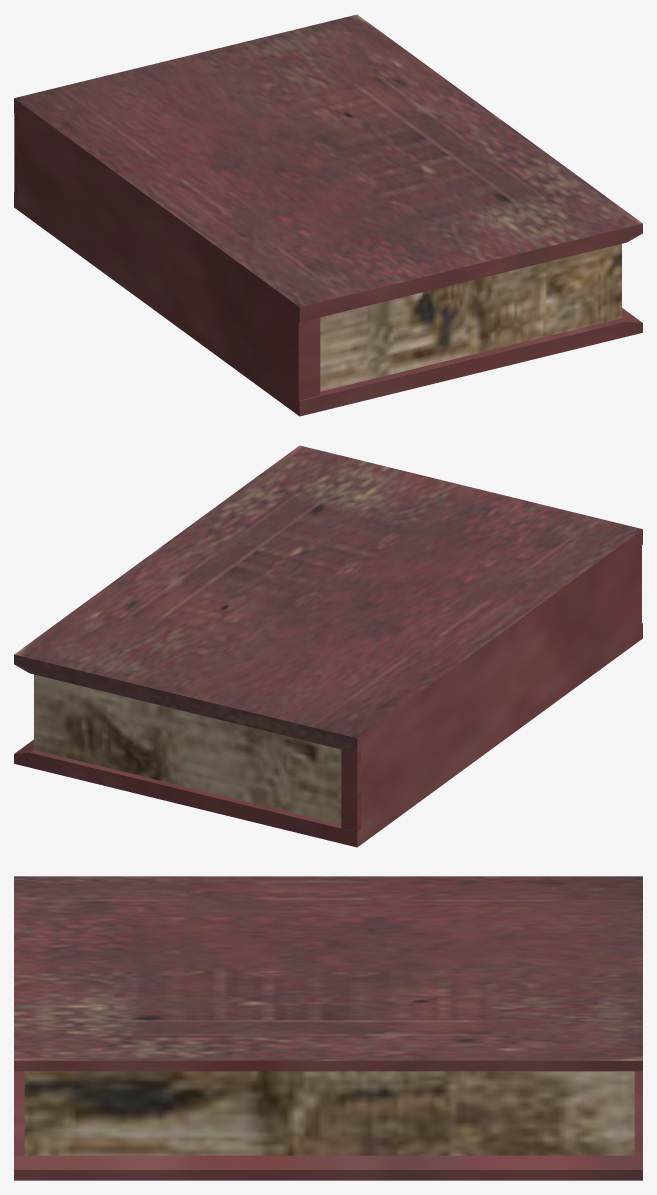
File: book1.fbx
3 renders of one model, top to bottom at view 1: azimuth 30°, elevation 25°; view 2: azimuth 150°, elevation 25°; view 3: azimuth 270°, elevation 25°, orthographic. The views are drawn at different scales.
Visible parts, largest first — view 1: Cube.018; view 2: Cube.018; view 3: Cube.018.
Part boxes in pixels (<box>): Cube.018: <box>14,14,642,416</box>; Cube.018: <box>14,445,642,847</box>; Cube.018: <box>14,876,642,1180</box>.
Size of the model in its own units: 76.61 by 23.29 by 110.
